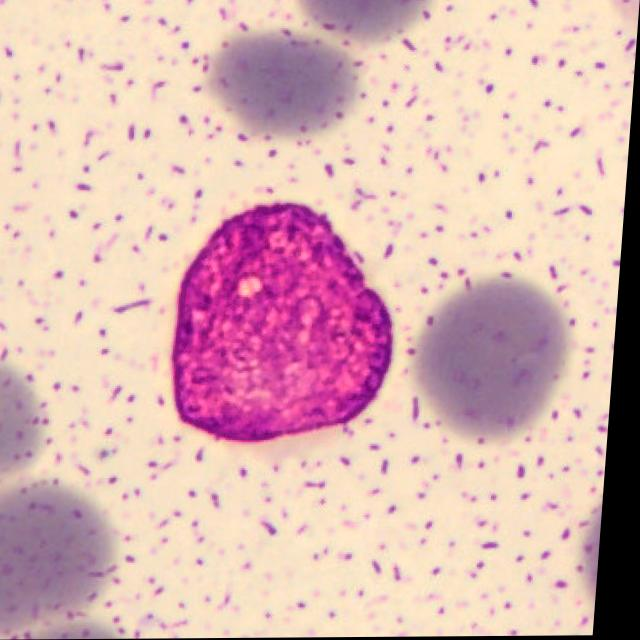Restos celulares: (175, 202, 396, 442)
